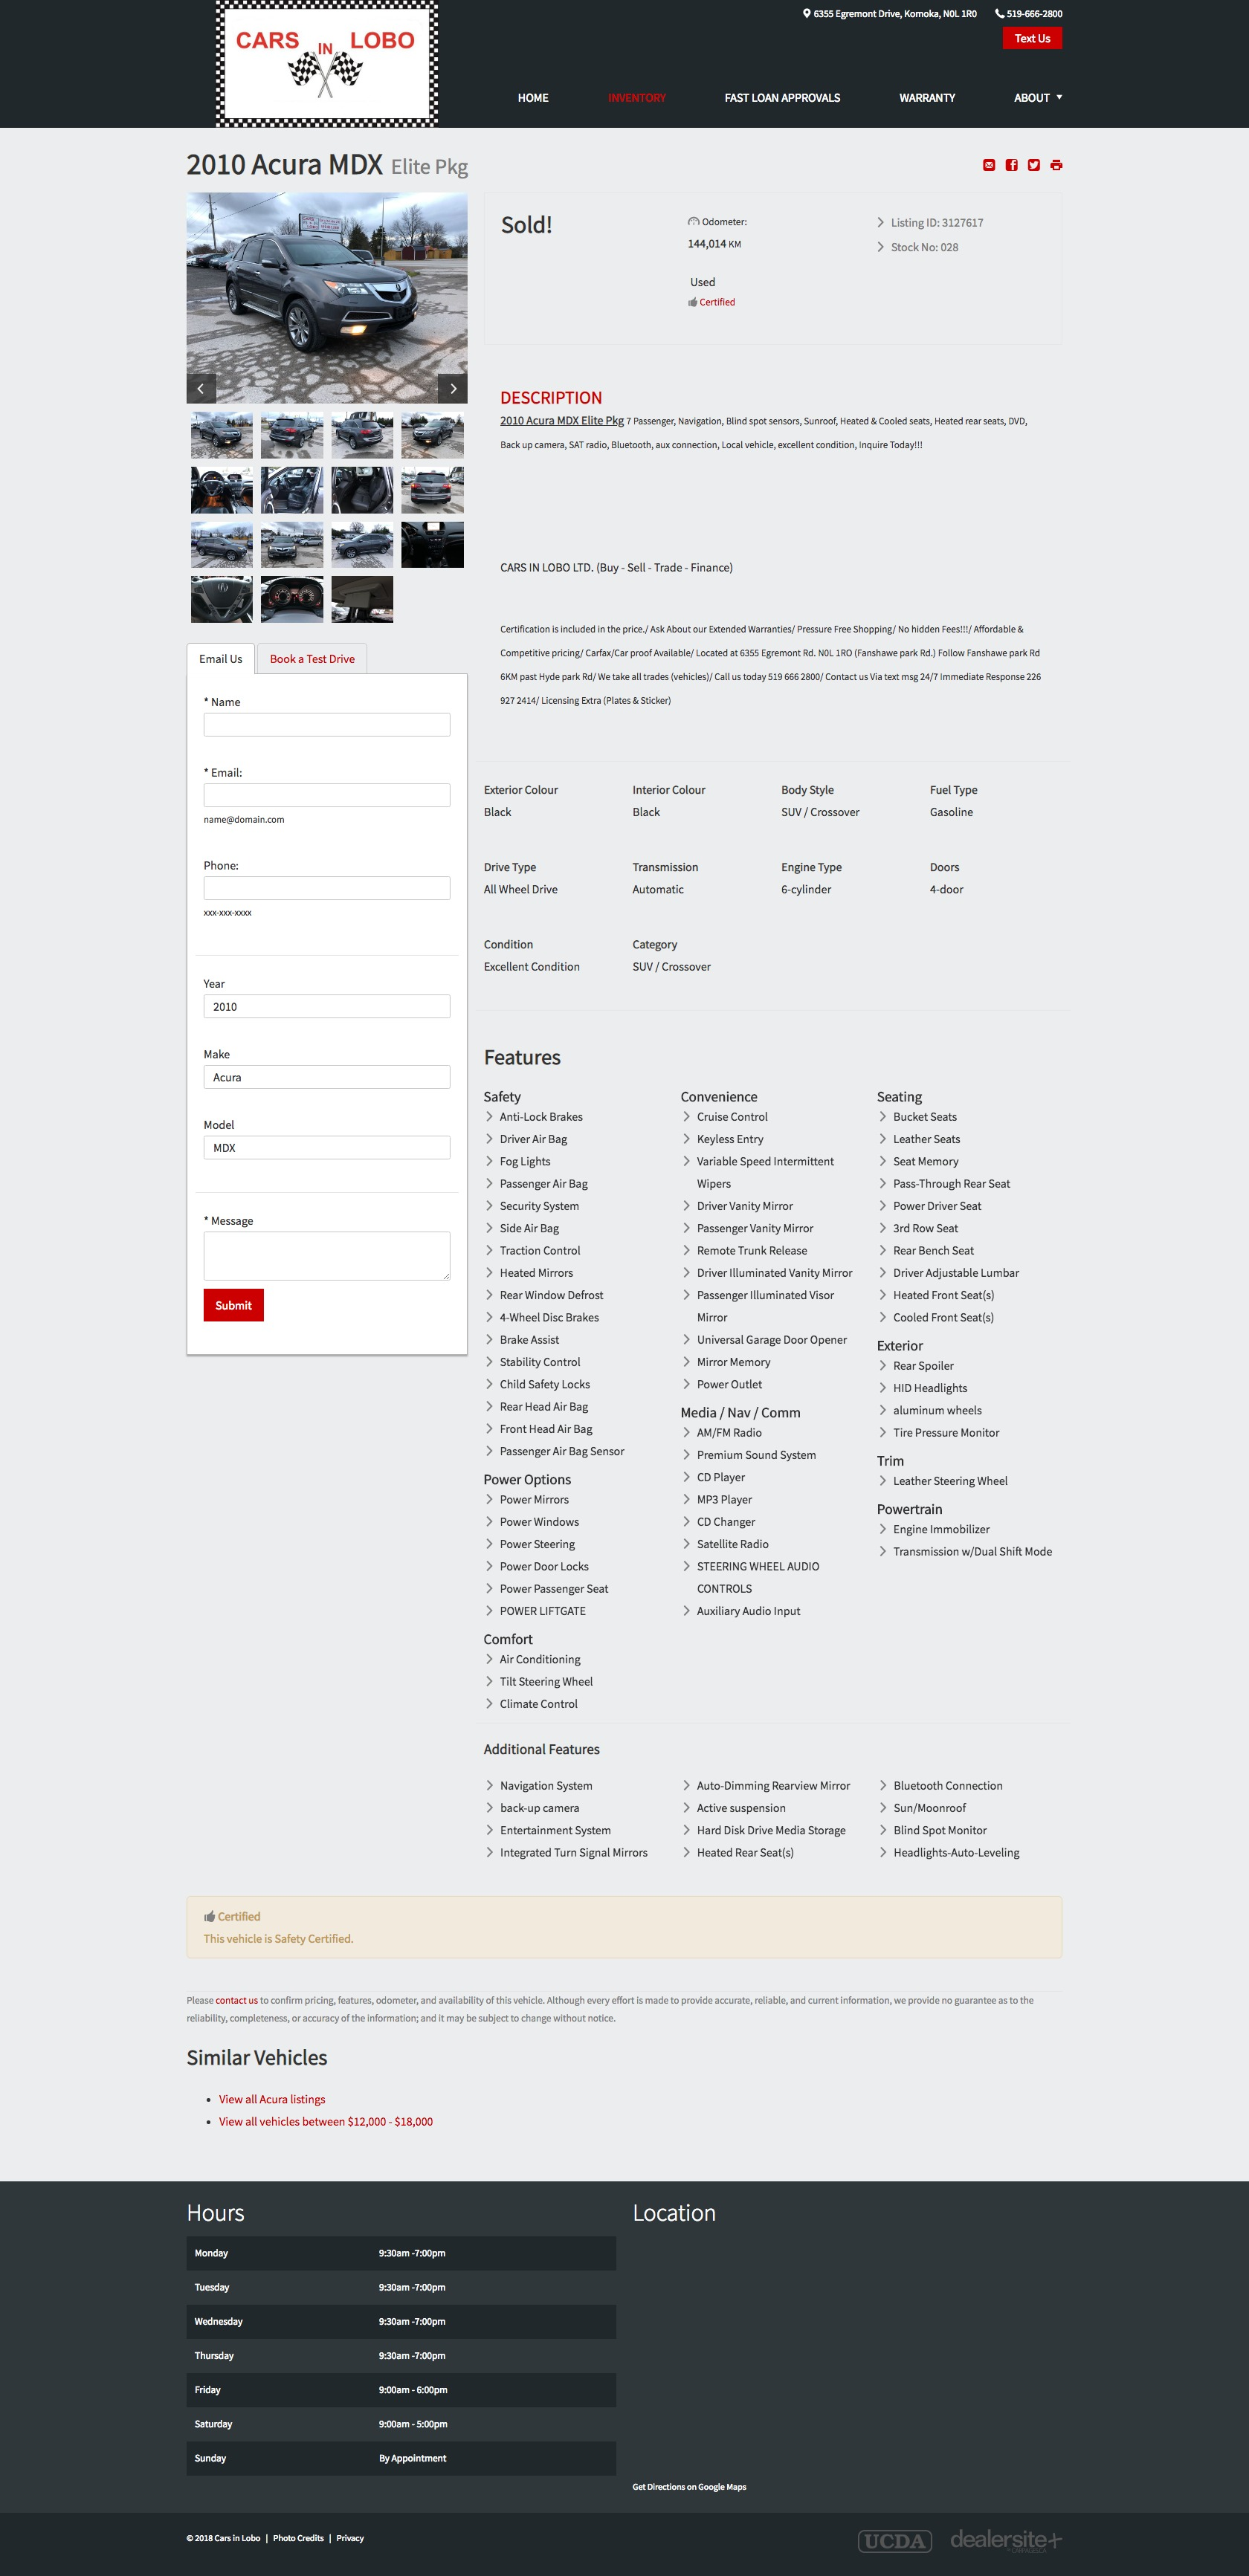car: (437, 373, 470, 406)
